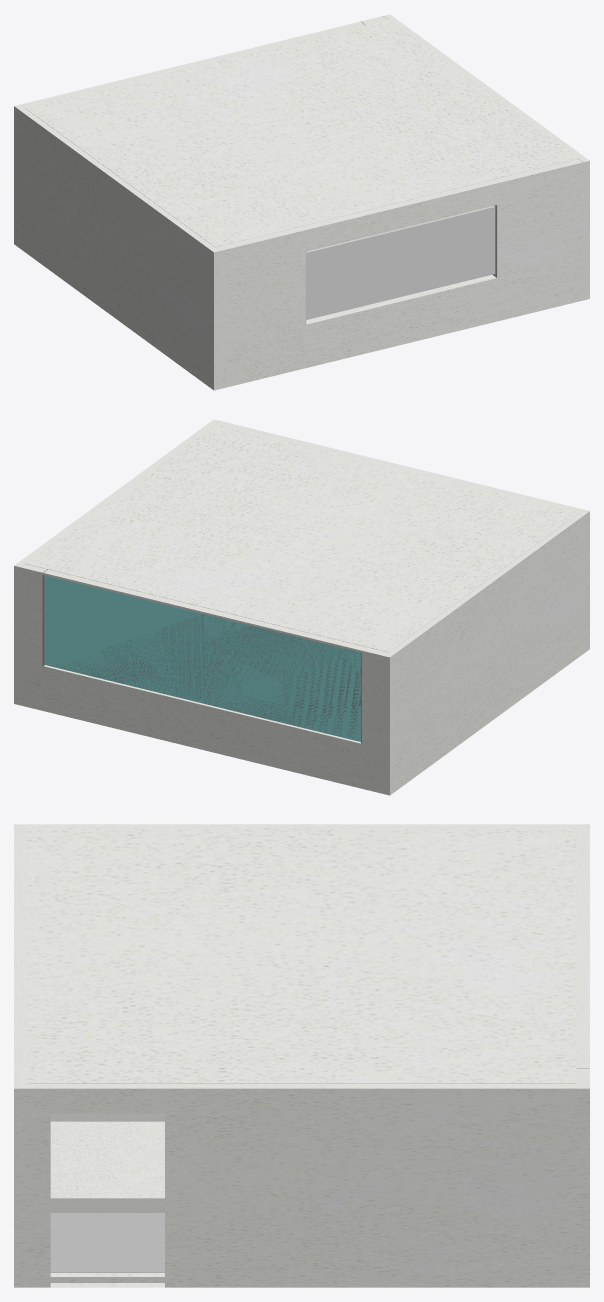
The model's file is MaxExportedFBXFile.fbx.
The picture shows the model from 3 angles, top to bottom: view 1: azimuth 30°, elevation 25°; view 2: azimuth 150°, elevation 25°; view 3: azimuth 270°, elevation 25°; orthographic projection. The views are drawn at different scales.
Parts seen in each view (by area): view 1: Techo, ParedFrontal, ParedIzquierda, AwningWindow001, ParedDerecha, ParedTrasera; view 2: Techo, ParedIzquierda, Ventana, ParedTrasera, ParedDerecha, ParedFrontal; view 3: Techo, ParedDerecha, Entrada, Suelo, ParedTrasera, ParedFrontal, ParedIzquierda.
Part boxes in pixels (x1,y1,x2,y2): Techo: (25,19,577,247); ParedFrontal: (216,159,583,388); ParedIzquierda: (14,104,220,390); AwningWindow001: (305,205,497,324); ParedDerecha: (383,14,589,300); ParedTrasera: (20,16,386,107); Techo: (26,424,578,652); ParedIzquierda: (383,509,589,795); Ventana: (42,569,361,743); ParedTrasera: (20,564,387,793); ParedDerecha: (14,419,220,705); ParedFrontal: (217,421,583,512); Techo: (27,828,576,1083); ParedDerecha: (14,1084,589,1287); Entrada: (50,1121,164,1212); Suelo: (50,1213,164,1272); ParedTrasera: (576,828,589,1083); ParedFrontal: (14,828,27,1083); ParedIzquierda: (14,824,589,828).
Size of the model in its own units: 269 by 94.69 by 248.
